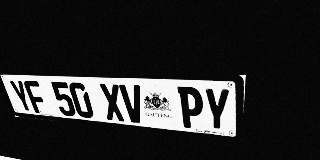0: (67, 82, 95, 119)
5: (50, 81, 77, 117)
F: (22, 80, 50, 114)
P: (177, 87, 204, 129)
V: (119, 84, 146, 124)
X: (98, 83, 126, 122)
Y: (203, 88, 230, 132), (8, 80, 35, 113)
